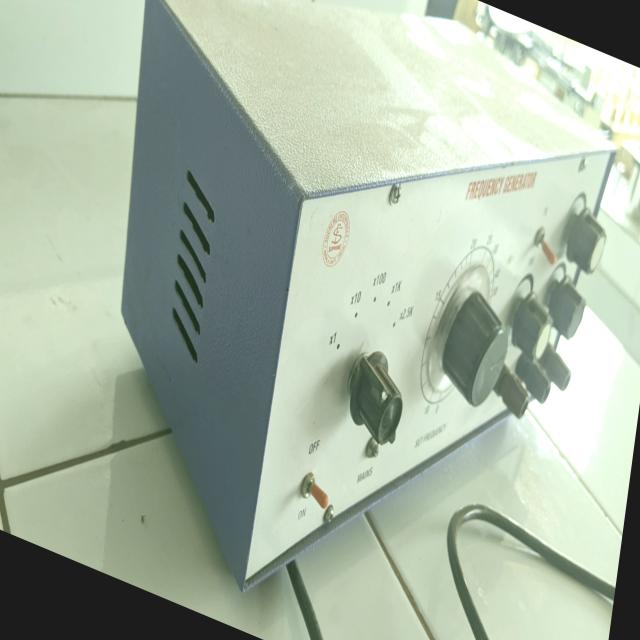Analog Frequency Generator: (95, 0, 637, 634)
